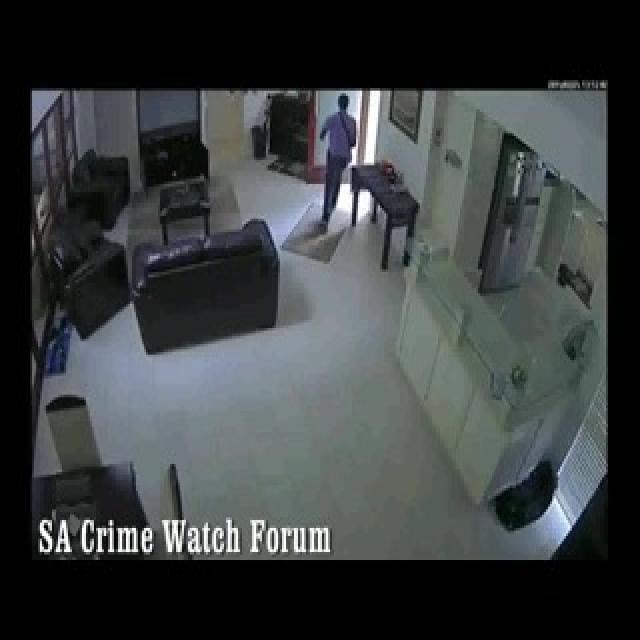thief: (303, 104, 367, 240)
